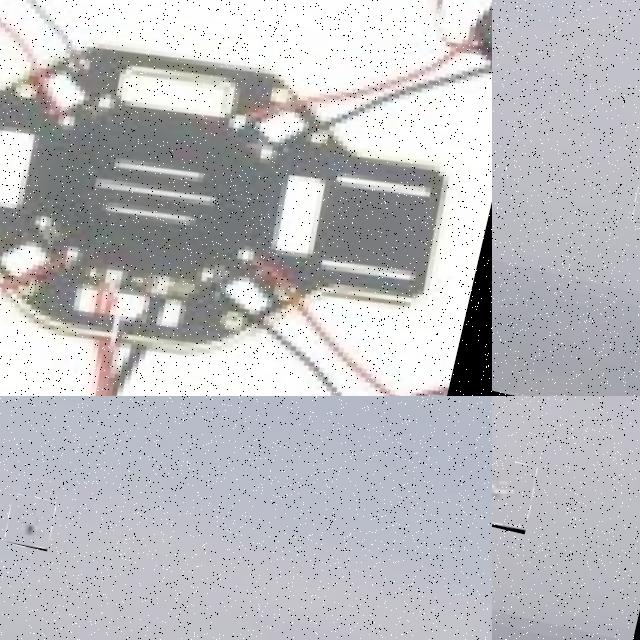drone: (0, 0, 492, 396), (492, 448, 539, 534), (2, 492, 58, 551)
